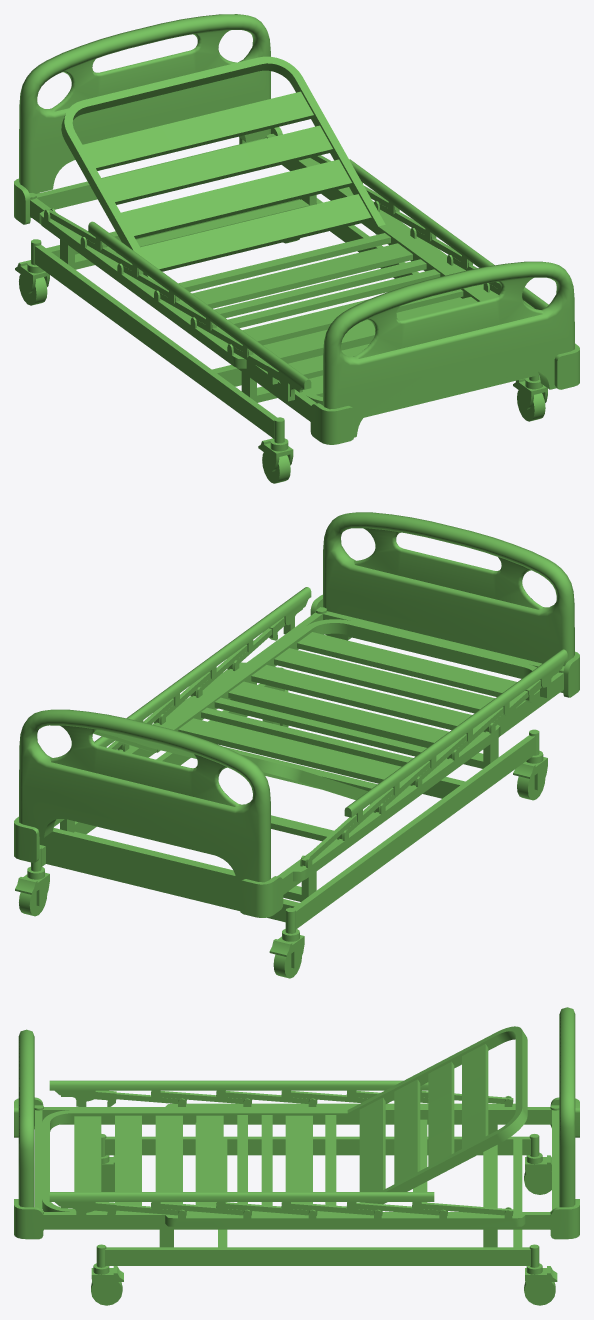
Rendered from SM_HospitalBed_02h.FBX.
The picture shows the model from 3 angles, top to bottom: view 1: azimuth 30°, elevation 25°; view 2: azimuth 150°, elevation 25°; view 3: azimuth 270°, elevation 25°; orthographic projection. The views are drawn at different scales.
Parts seen in each view (by area): view 1: SM_HospitalBed_02h_LOD0; view 2: SM_HospitalBed_02h_LOD0; view 3: SM_HospitalBed_02h_LOD0.
Part boxes in pixels (x1,y1,x2,y2): SM_HospitalBed_02h_LOD0: (14,14,579,483); SM_HospitalBed_02h_LOD0: (14,512,579,978); SM_HospitalBed_02h_LOD0: (14,1007,579,1305).
Size of what is drawn, in the model's own units: 109 by 89.09 by 221.
